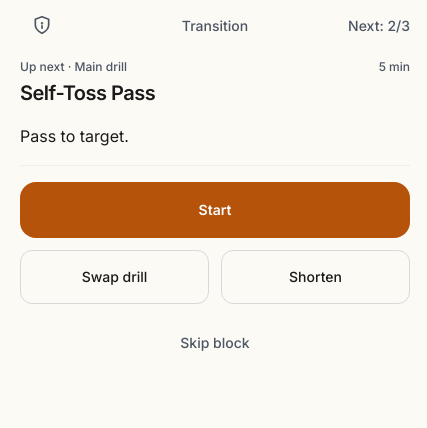
TransitionScreen controller outcomes › shows a retryable error when pre-start swap rejects
The width and height of the screenshot is (427, 428).
What coordinates should you click on to do the following:
click the button "Swap drill"
I would click on:
 (114, 277)
Its box is [20, 250, 209, 304].
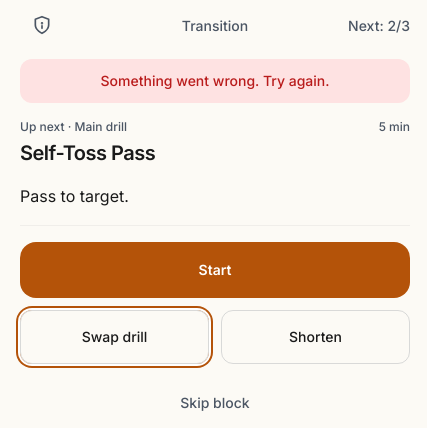
Expected: the heading "Self-Toss Pass" is shown, [20, 141, 155, 165]
Expected: the text "Something went wrong. Try again." is shown, [20, 59, 410, 103]
